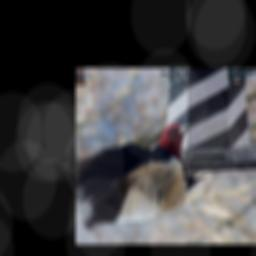Woodpecker: (76, 117, 203, 227)
